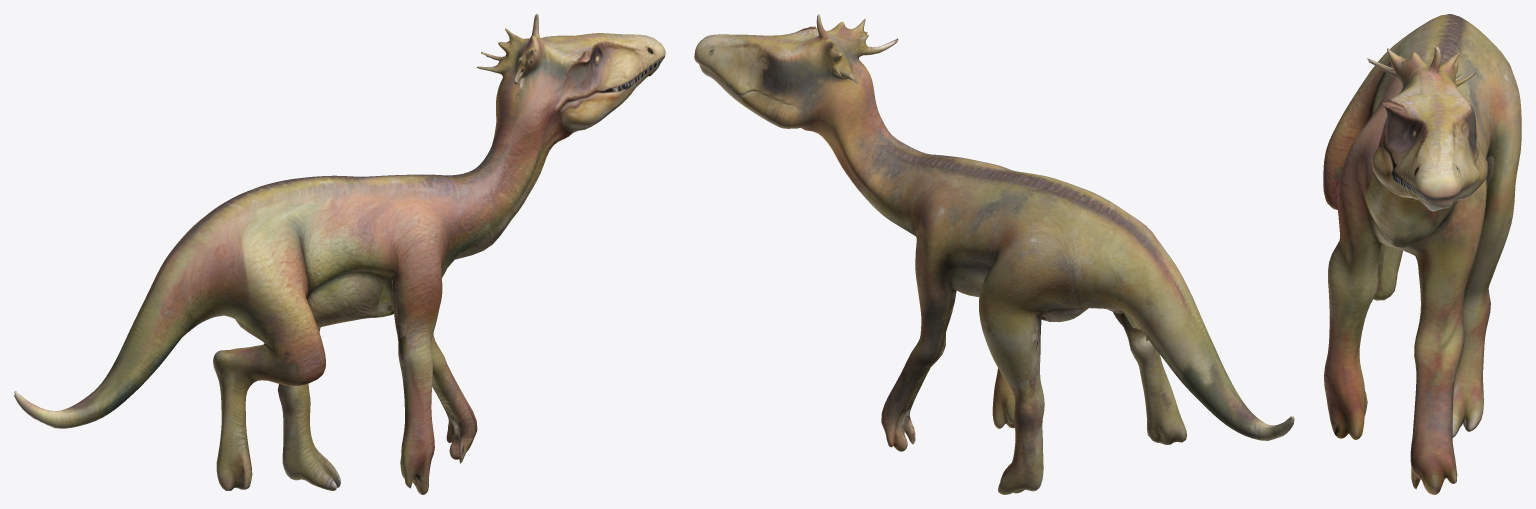
3 renders of one model, left to right at view 1: azimuth 30°, elevation 25°; view 2: azimuth 150°, elevation 25°; view 3: azimuth 270°, elevation 25°, orthographic. The views are drawn at different scales.
Visible parts, largest first — view 1: Mesh0; view 2: Mesh0; view 3: Mesh0.
Part boxes in pixels (left/top/right/bottom): Mesh0: left=14, top=14, right=665, bottom=494; Mesh0: left=694, top=14, right=1294, bottom=494; Mesh0: left=1323, top=14, right=1521, bottom=494.
Bounding box in the file's own units: 1.34 × 0.8791 × 0.3155.
1 material, 1 textured.
